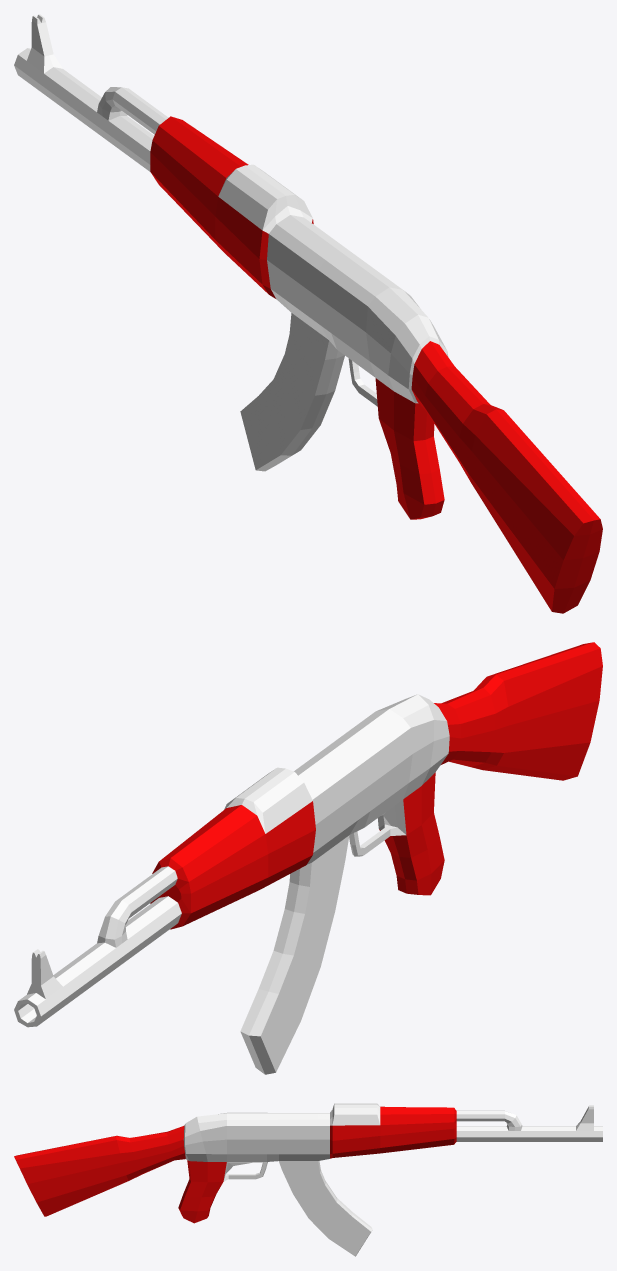
The picture shows the model from 3 angles, top to bottom: view 1: azimuth 30°, elevation 25°; view 2: azimuth 150°, elevation 25°; view 3: azimuth 270°, elevation 25°; orthographic projection. The views are drawn at different scales.
Visible parts, largest first — view 1: AK-47; view 2: AK-47; view 3: AK-47.
Part boxes in pixels (<box>): AK-47: <box>14,14,602,613</box>; AK-47: <box>14,642,602,1074</box>; AK-47: <box>14,1103,602,1256</box>.
Bounding box in the file's own units: 0.0605 × 0.2975 × 1.05.
